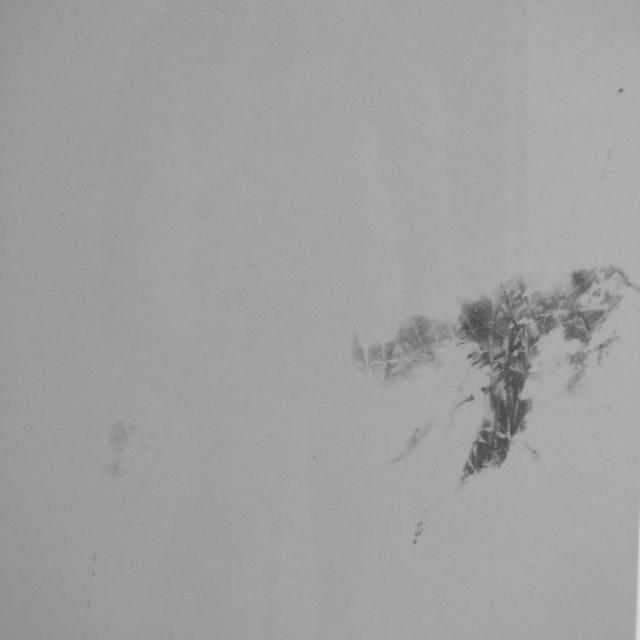stain marks: (333, 264, 640, 506), (90, 409, 170, 506), (82, 552, 101, 616), (406, 516, 429, 556), (612, 81, 632, 106)
